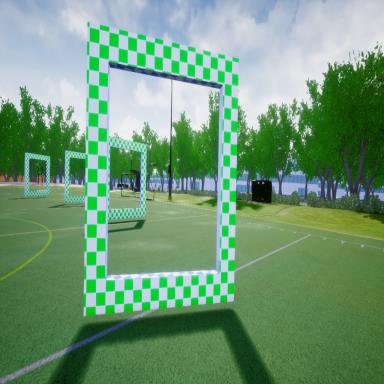gate: (82, 9, 242, 331), (102, 138, 148, 224), (23, 147, 52, 202)
